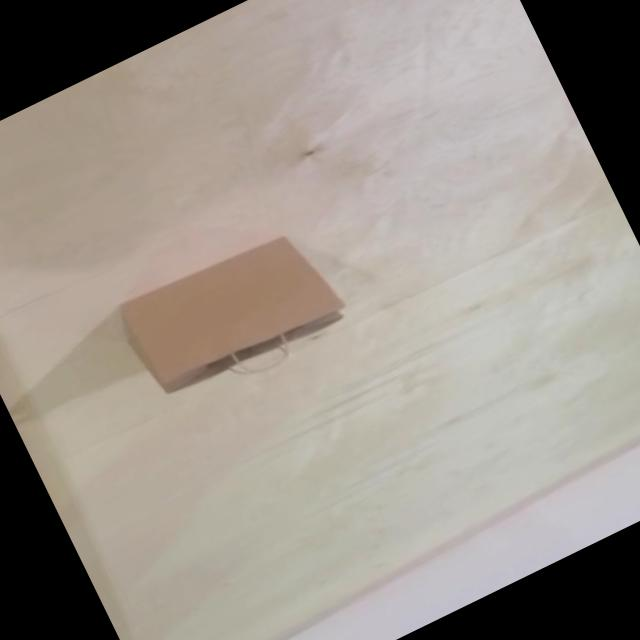Kardus: (110, 215, 358, 422)
